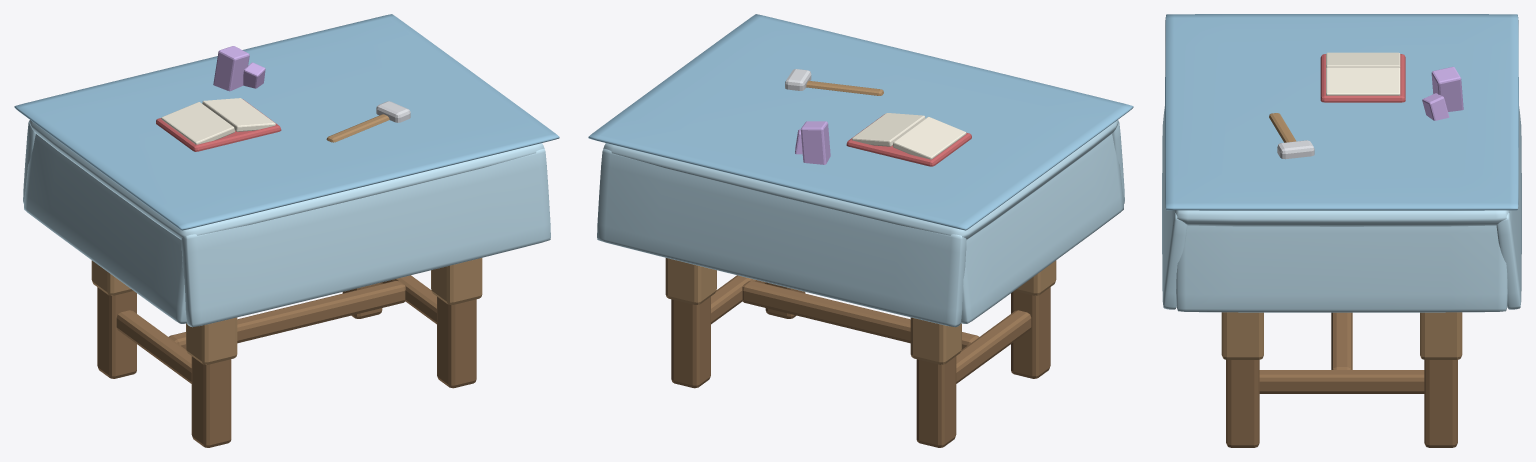
File: CraftingTable.glb
The picture shows the model from 3 angles, left to right: view 1: azimuth 30°, elevation 25°; view 2: azimuth 150°, elevation 25°; view 3: azimuth 270°, elevation 25°; orthographic projection. The views are drawn at different scales.
Visible parts, largest first — view 1: CraftingTable; view 2: CraftingTable; view 3: CraftingTable.
Boxes of the visible parts, x1,y1,x2,y2 form: CraftingTable: (14,14,559,447); CraftingTable: (588,14,1133,447); CraftingTable: (1162,14,1521,447).
Bounding box in the file's own units: 1.3 × 0.955 × 1.02.
